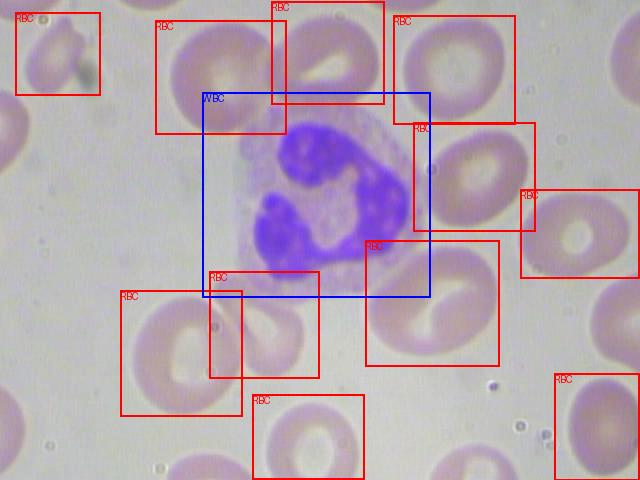RBC: (365, 240, 499, 366), (120, 290, 242, 416), (155, 20, 286, 134), (393, 15, 515, 124), (413, 122, 535, 231), (209, 271, 319, 378), (271, 1, 384, 104), (520, 189, 639, 278), (252, 394, 364, 479), (554, 373, 639, 480), (15, 12, 100, 95)
WBC: (202, 92, 430, 297)
